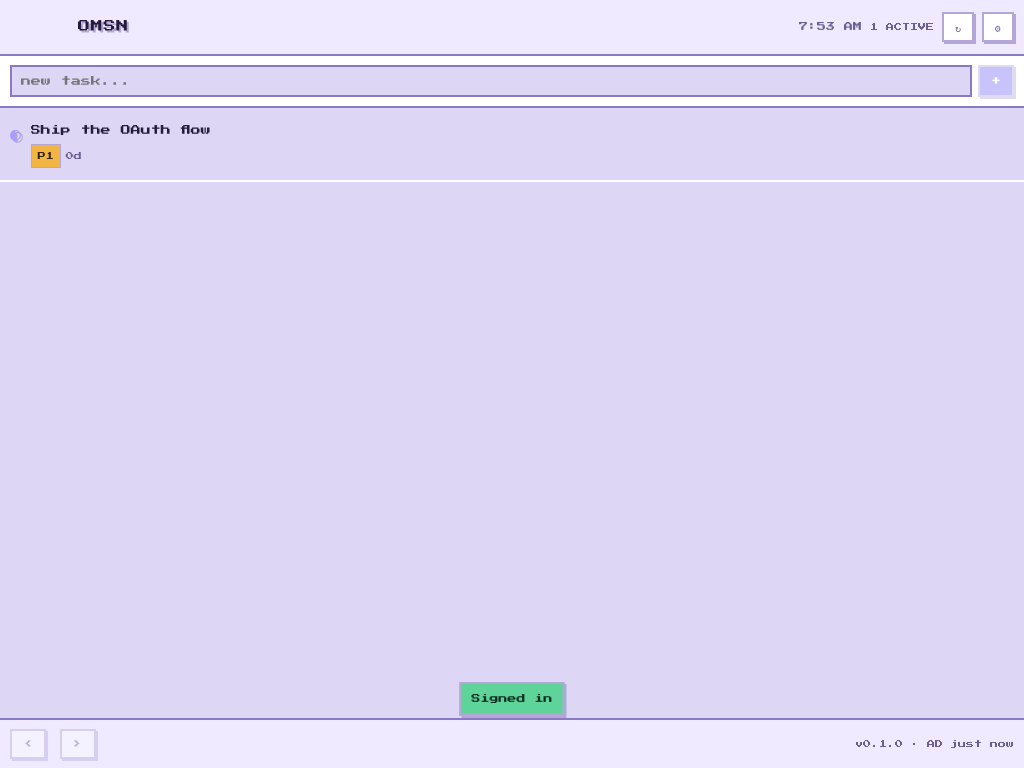
Test: fixing a typo in a title (R7) › sends only the title, so a concurrent plugin edit is not clobbered
Expected: the text "Ship the OAuth flow" is shown, [31,125,211,135]
Click the button "Ship the OAuth flow P1 0d". click: (121, 130)
box: [31,125,211,168]
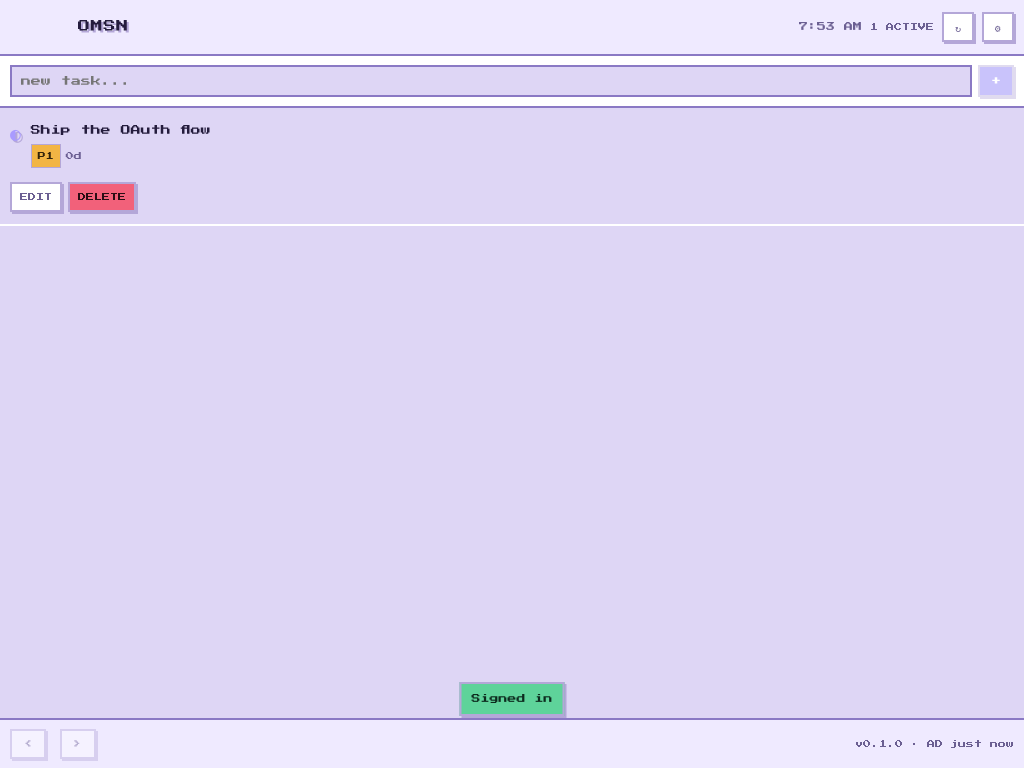
Click the button "EDIT". click: (36, 197)
box: [10,182,62,212]
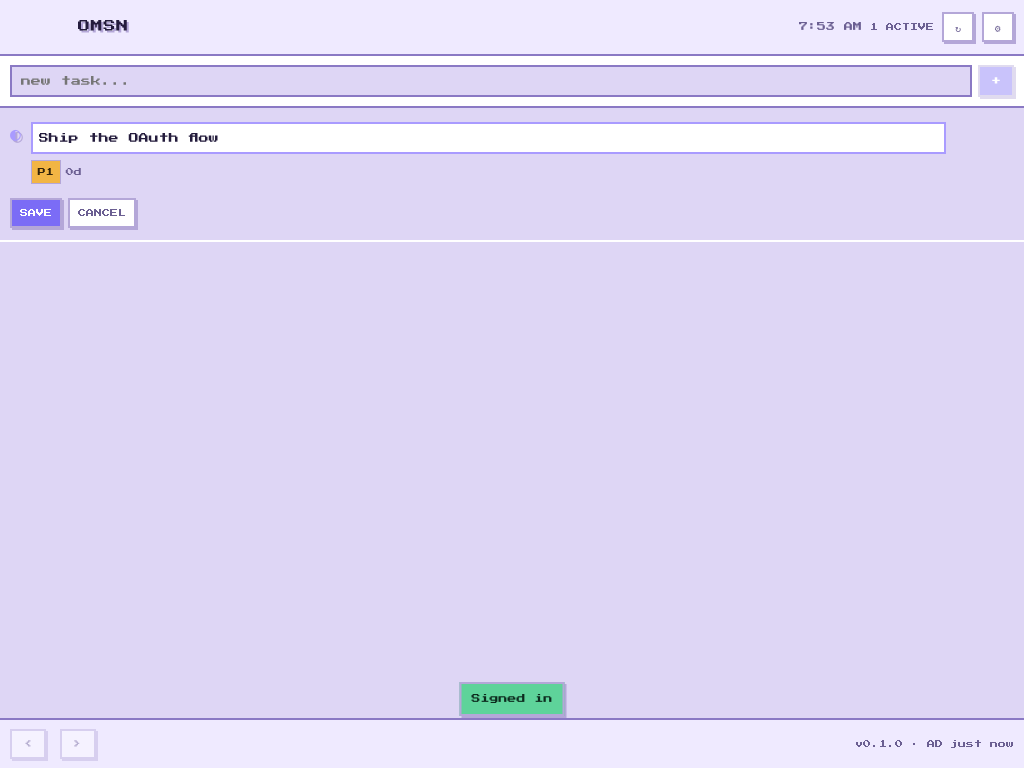
Replace the text in the field named "Task title" with "Ship the OAuth flow properly". click: (488, 138)
box: [31,122,946,154]
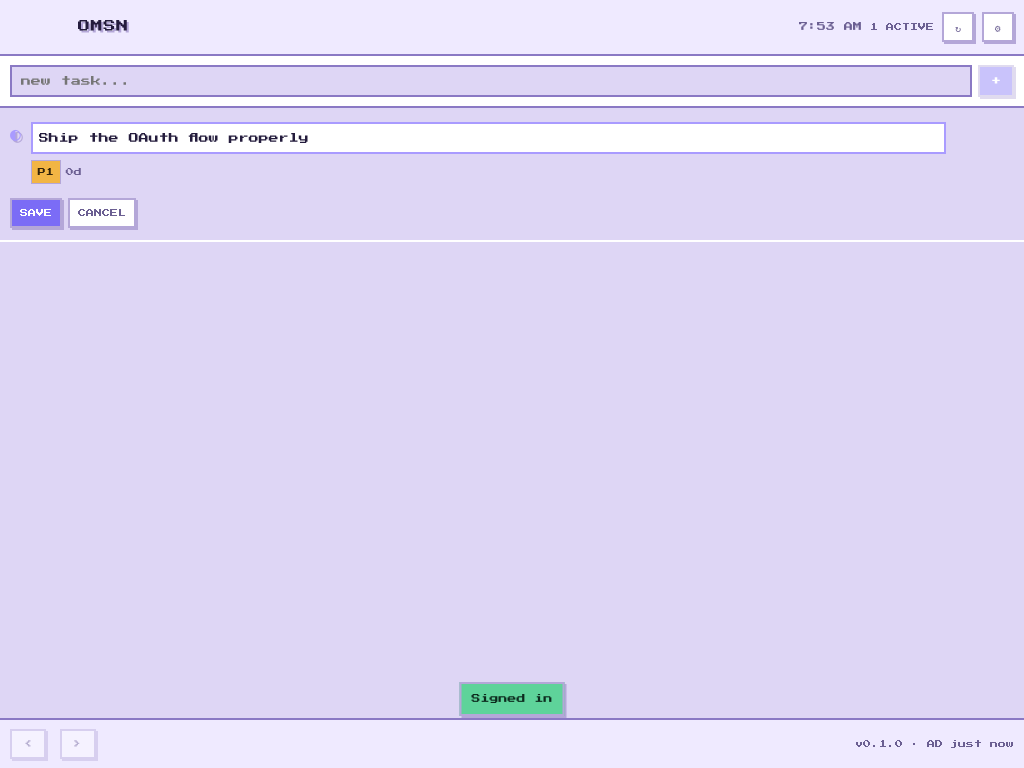
Press Enter in the field named "Task title", box [31,122,946,154]
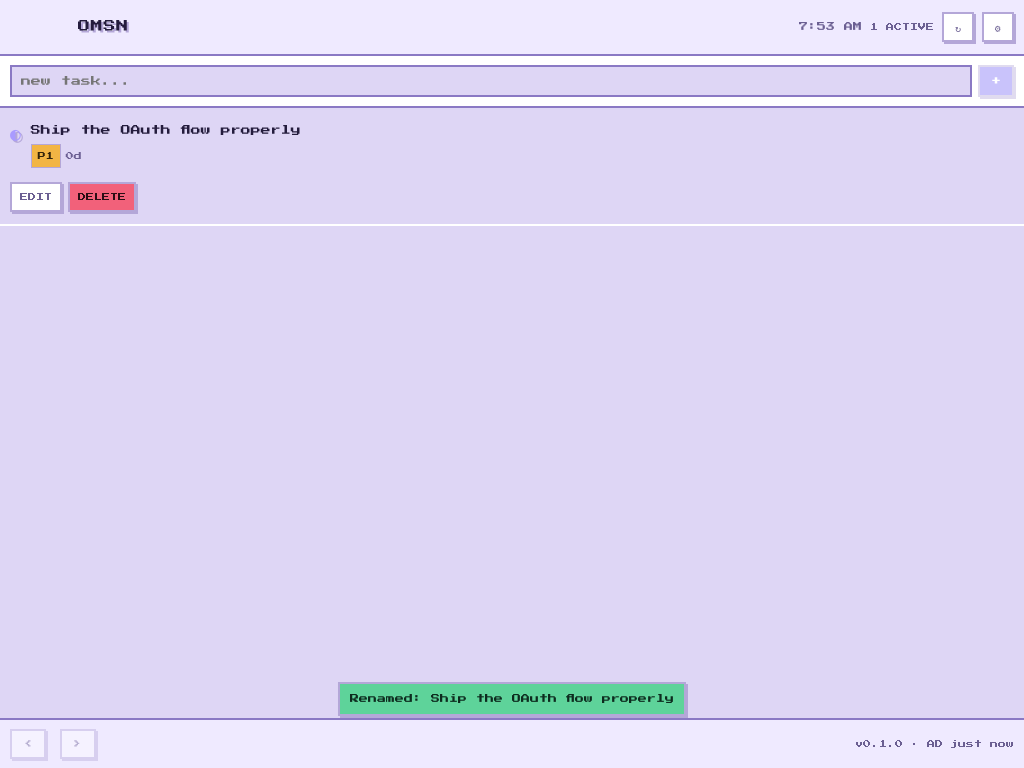
Now the text "Ship the OAuth flow properly" is shown, box [31,125,301,135]
